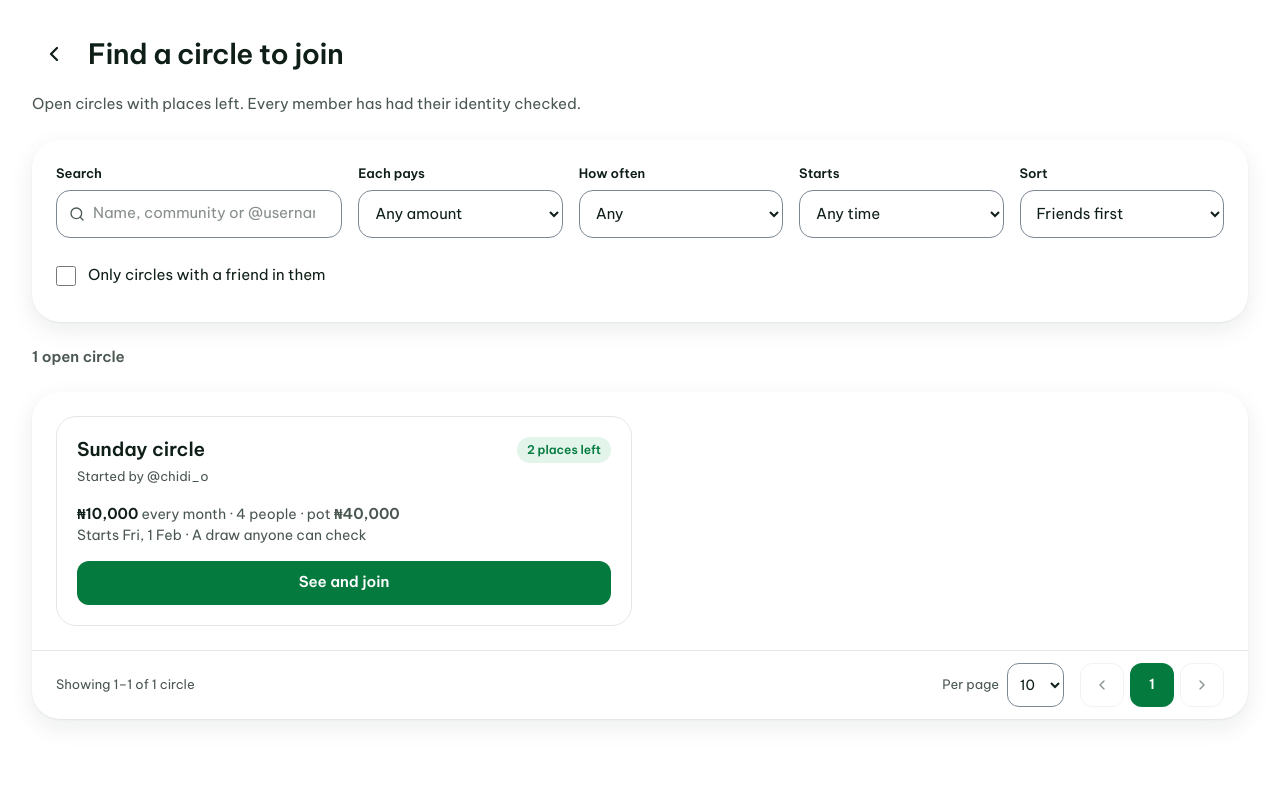
Scenario: finding a circle › says so when no circle matches the filters
The width and height of the screenshot is (1280, 800).
In the search field: [211, 214] box [93,202,329,225], type "zzz"
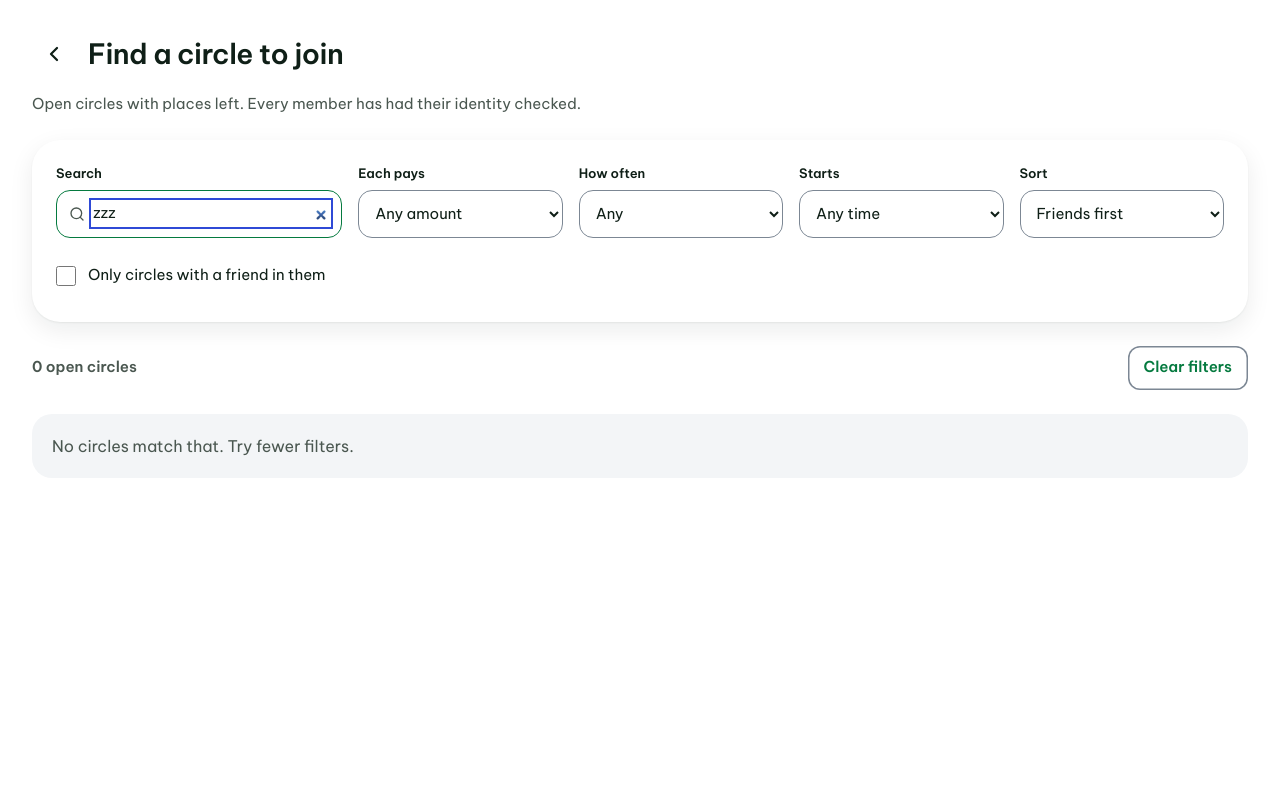
Expected: the text "No circles match that. Try fewer filters." is shown, [32,414,1248,478]
